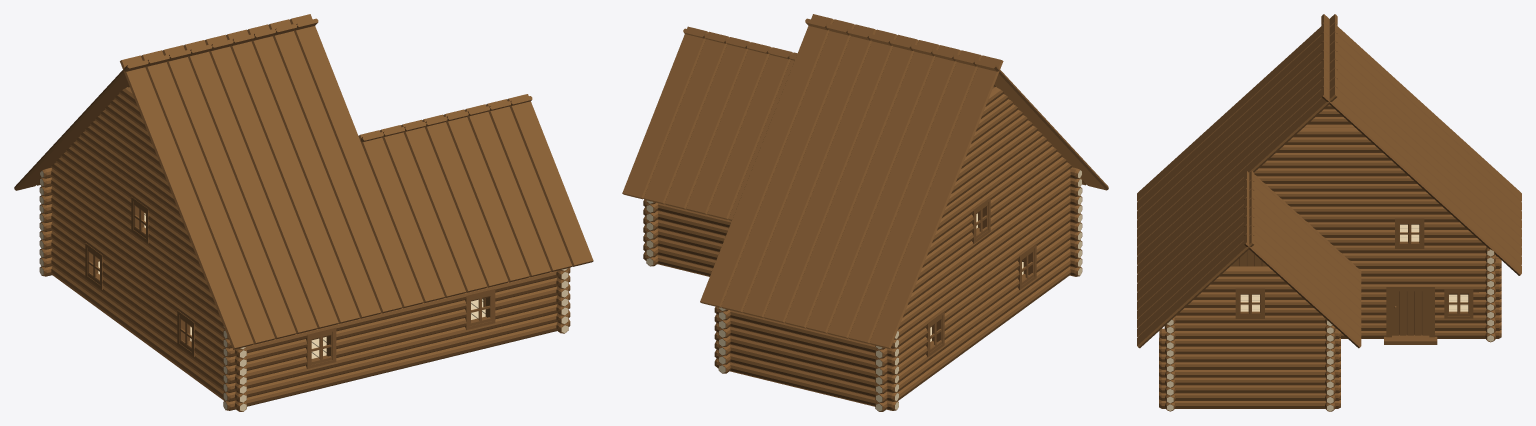
Rendered from Wooden Village1.fbx.
The picture shows the model from 3 angles, left to right: view 1: azimuth 30°, elevation 25°; view 2: azimuth 150°, elevation 25°; view 3: azimuth 270°, elevation 25°; orthographic projection. The views are drawn at different scales.
Parts seen in each view (by area): view 1: Roof.026, Roof.020, Roof.022, Roof.025, Roof.021, Roof.023, Roof.018, Roof.019, Roof.024, Roof.044, Roof.037, Roof.042 (+48 smaller); view 2: Roof.015, Roof.005, Roof.001, Roof.017, Roof.007, Roof.011, Roof.003, Roof.009, Roof.013, Roof.029, Roof.027, Roof.028 (+47 smaller); view 3: Roof.017, Roof.018, Roof.005, Roof.021, Roof.001, Roof.009, Roof.019, Roof.023, Roof.003, Roof.013, Roof.020, Roof.025 (+74 smaller).
Part boxes in pixels (bbox=[...]): Roof.026: bbox=[120, 55, 253, 349]; Roof.020: bbox=[226, 29, 359, 323]; Roof.022: bbox=[268, 19, 402, 313]; Roof.025: bbox=[141, 50, 275, 344]; Roof.021: bbox=[247, 24, 381, 318]; Roof.023: bbox=[183, 40, 317, 334]; Roof.018: bbox=[289, 14, 423, 308]; Roof.019: bbox=[204, 34, 338, 328]; Roof.024: bbox=[162, 45, 296, 339]; Roof.044: bbox=[358, 130, 444, 303]; Roof.037: bbox=[443, 109, 529, 282]; Roof.042: bbox=[401, 119, 487, 292]; Roof.015: bbox=[869, 55, 1003, 348]; Roof.005: bbox=[742, 24, 876, 317]; Roof.001: bbox=[784, 34, 918, 328]; Roof.017: bbox=[700, 14, 833, 307]; Roof.007: bbox=[721, 19, 854, 312]; Roof.011: bbox=[827, 45, 960, 338]; Roof.003: bbox=[763, 29, 897, 323]; Roof.009: bbox=[806, 40, 939, 333]; Roof.013: bbox=[848, 50, 981, 343]; Roof.029: bbox=[643, 31, 729, 204]; Roof.027: bbox=[686, 42, 771, 214]; Roof.028: bbox=[664, 37, 750, 209]; Roof.017: bbox=[1321, 86, 1521, 275]; Roof.018: bbox=[1137, 86, 1337, 273]; Roof.005: bbox=[1321, 68, 1521, 255]; Roof.021: bbox=[1137, 68, 1337, 255]; Roof.001: bbox=[1321, 50, 1521, 237]; Roof.009: bbox=[1321, 41, 1521, 228]; Roof.019: bbox=[1137, 50, 1337, 237]; Roof.023: bbox=[1137, 41, 1337, 228]; Roof.003: bbox=[1321, 59, 1521, 246]; Roof.013: bbox=[1321, 23, 1521, 210]; Roof.020: bbox=[1137, 59, 1337, 246]; Roof.025: bbox=[1137, 23, 1337, 210].
Bounding box in the file's own units: 6800 × 5125 × 7192.
